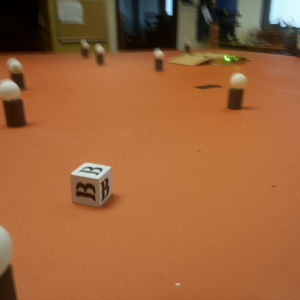obstacle: (1, 81, 28, 128), (1, 222, 17, 300), (226, 71, 247, 111), (5, 58, 26, 80), (152, 48, 165, 72), (95, 43, 106, 65), (78, 40, 89, 57), (183, 41, 192, 53)
side: (214, 55, 245, 66)
slope: (170, 55, 211, 65)
